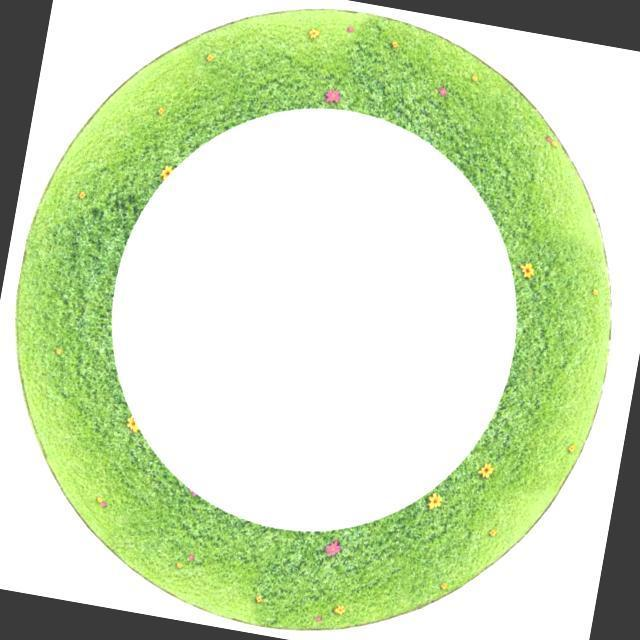Circle: (12, 5, 616, 632)
